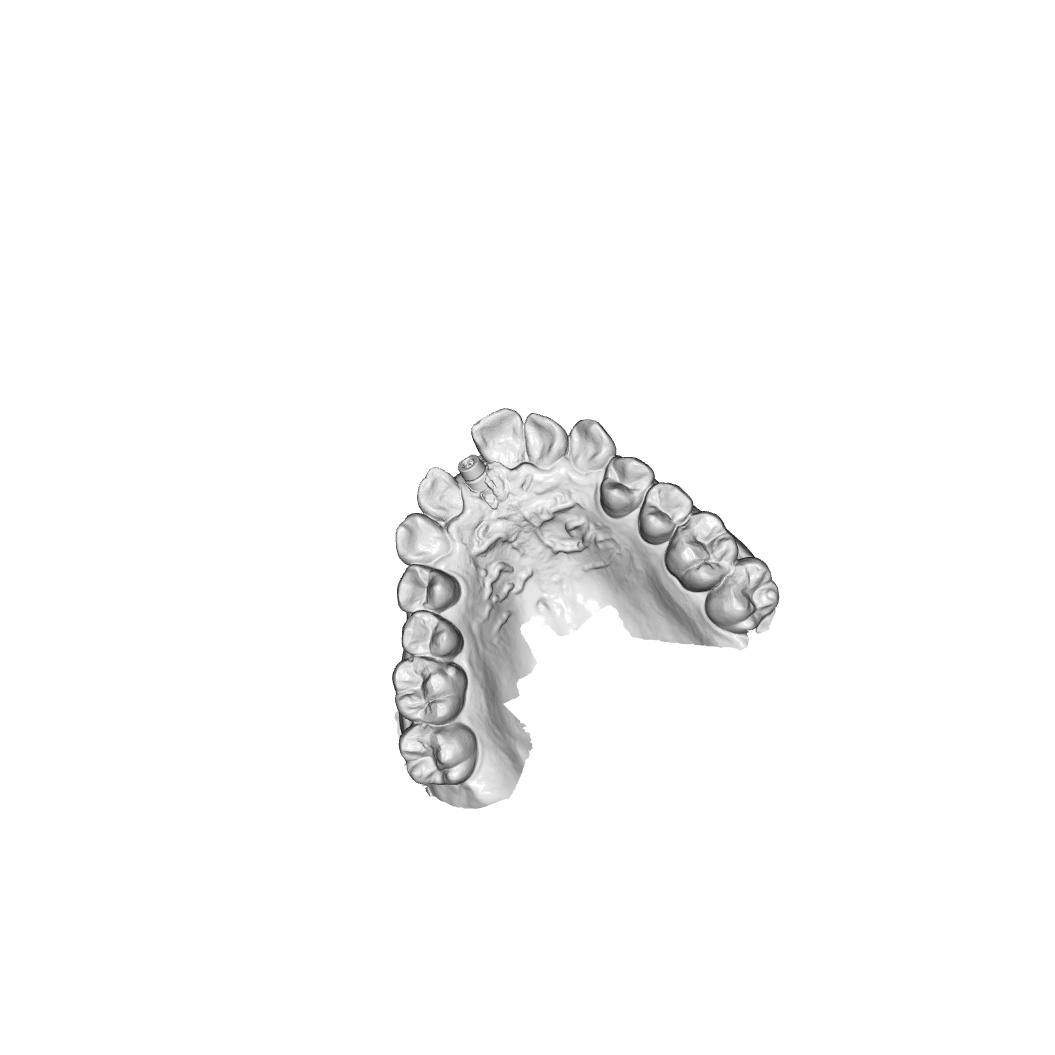canine: (393, 512, 452, 565), (566, 417, 619, 474)
implant: (457, 453, 490, 494)
incisor: (469, 407, 526, 471), (416, 466, 466, 524), (524, 411, 569, 470)
molar: (664, 509, 739, 594), (704, 556, 781, 635), (397, 722, 478, 787), (390, 658, 469, 724)
premolar: (597, 454, 657, 519), (637, 481, 695, 546), (395, 564, 462, 614), (400, 610, 464, 659)
